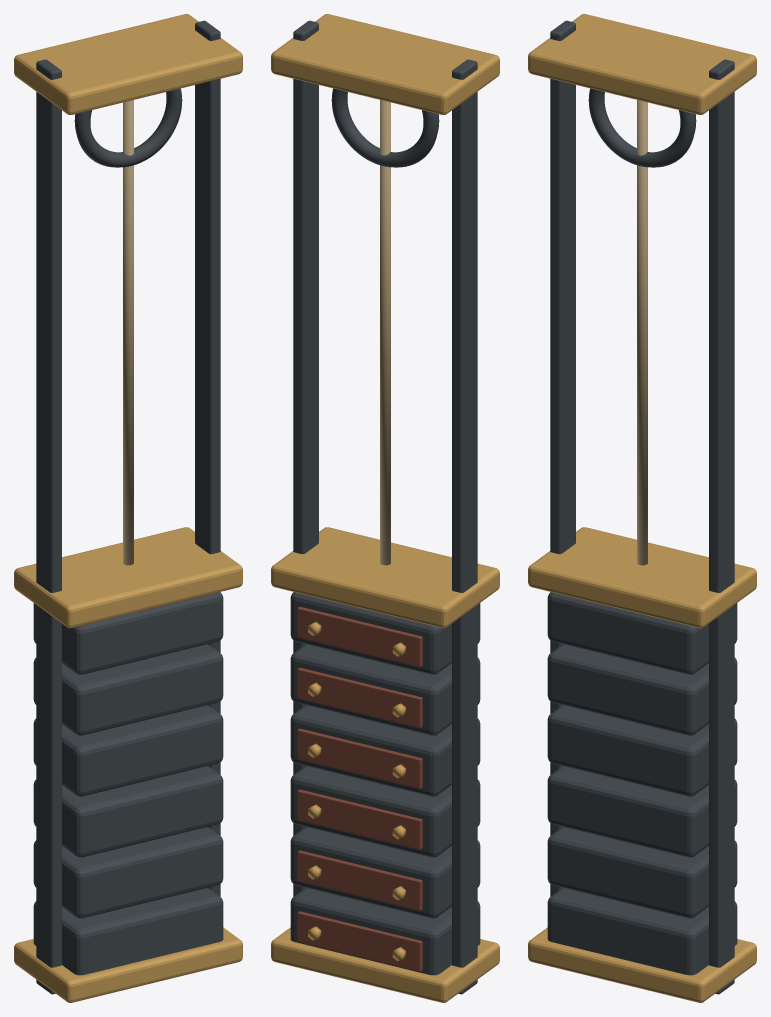
File: counterweight.gltf
3 renders of one model, left to right at view 1: azimuth 30°, elevation 25°; view 2: azimuth 150°, elevation 25°; view 3: azimuth 330°, elevation 25°, orthographic.
Parts seen in each view (by area): view 1: counterweight; view 2: counterweight; view 3: counterweight.
Boxes of the visible parts, x1,y1,x2,y2 form: counterweight: [14, 14, 242, 1002]; counterweight: [271, 14, 499, 1002]; counterweight: [528, 14, 756, 1002].
Bounding box in the file's own units: 1 × 5 × 0.573.
